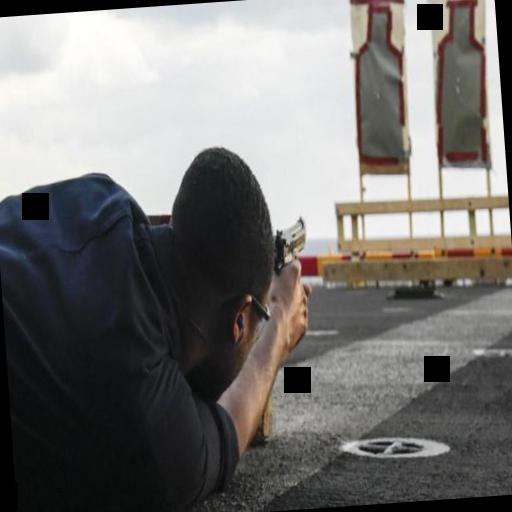Handgun: (264, 204, 314, 290)
